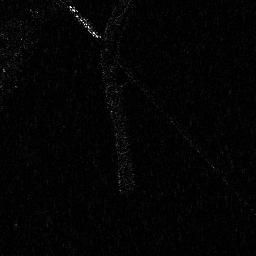ship: (68, 4, 101, 40)
